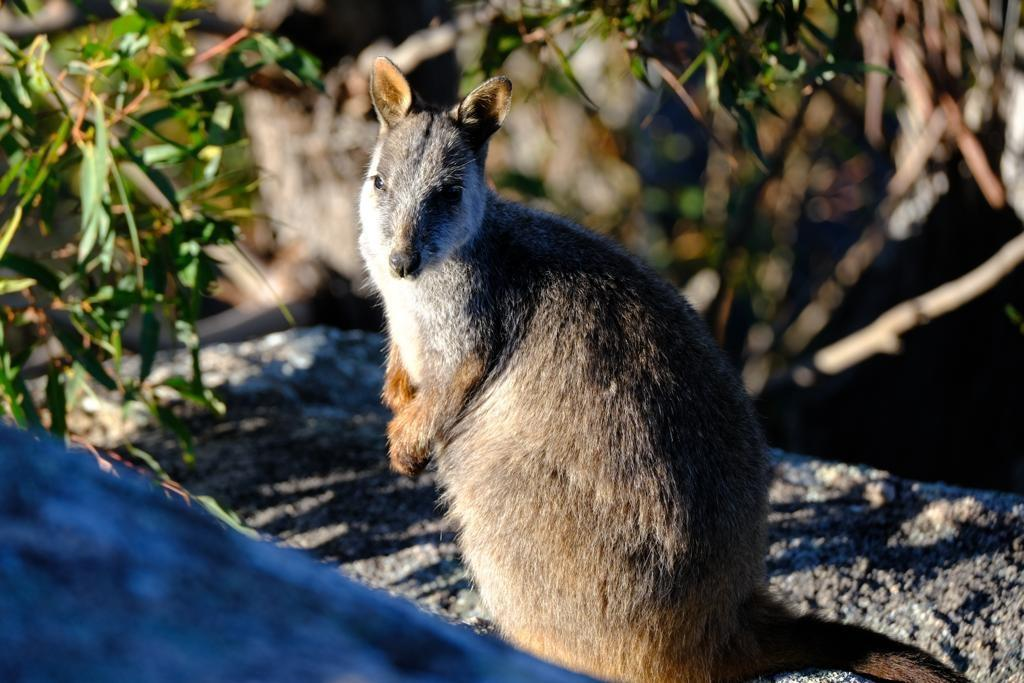Brush-tailed rock-wallaby: (352, 53, 976, 683)
